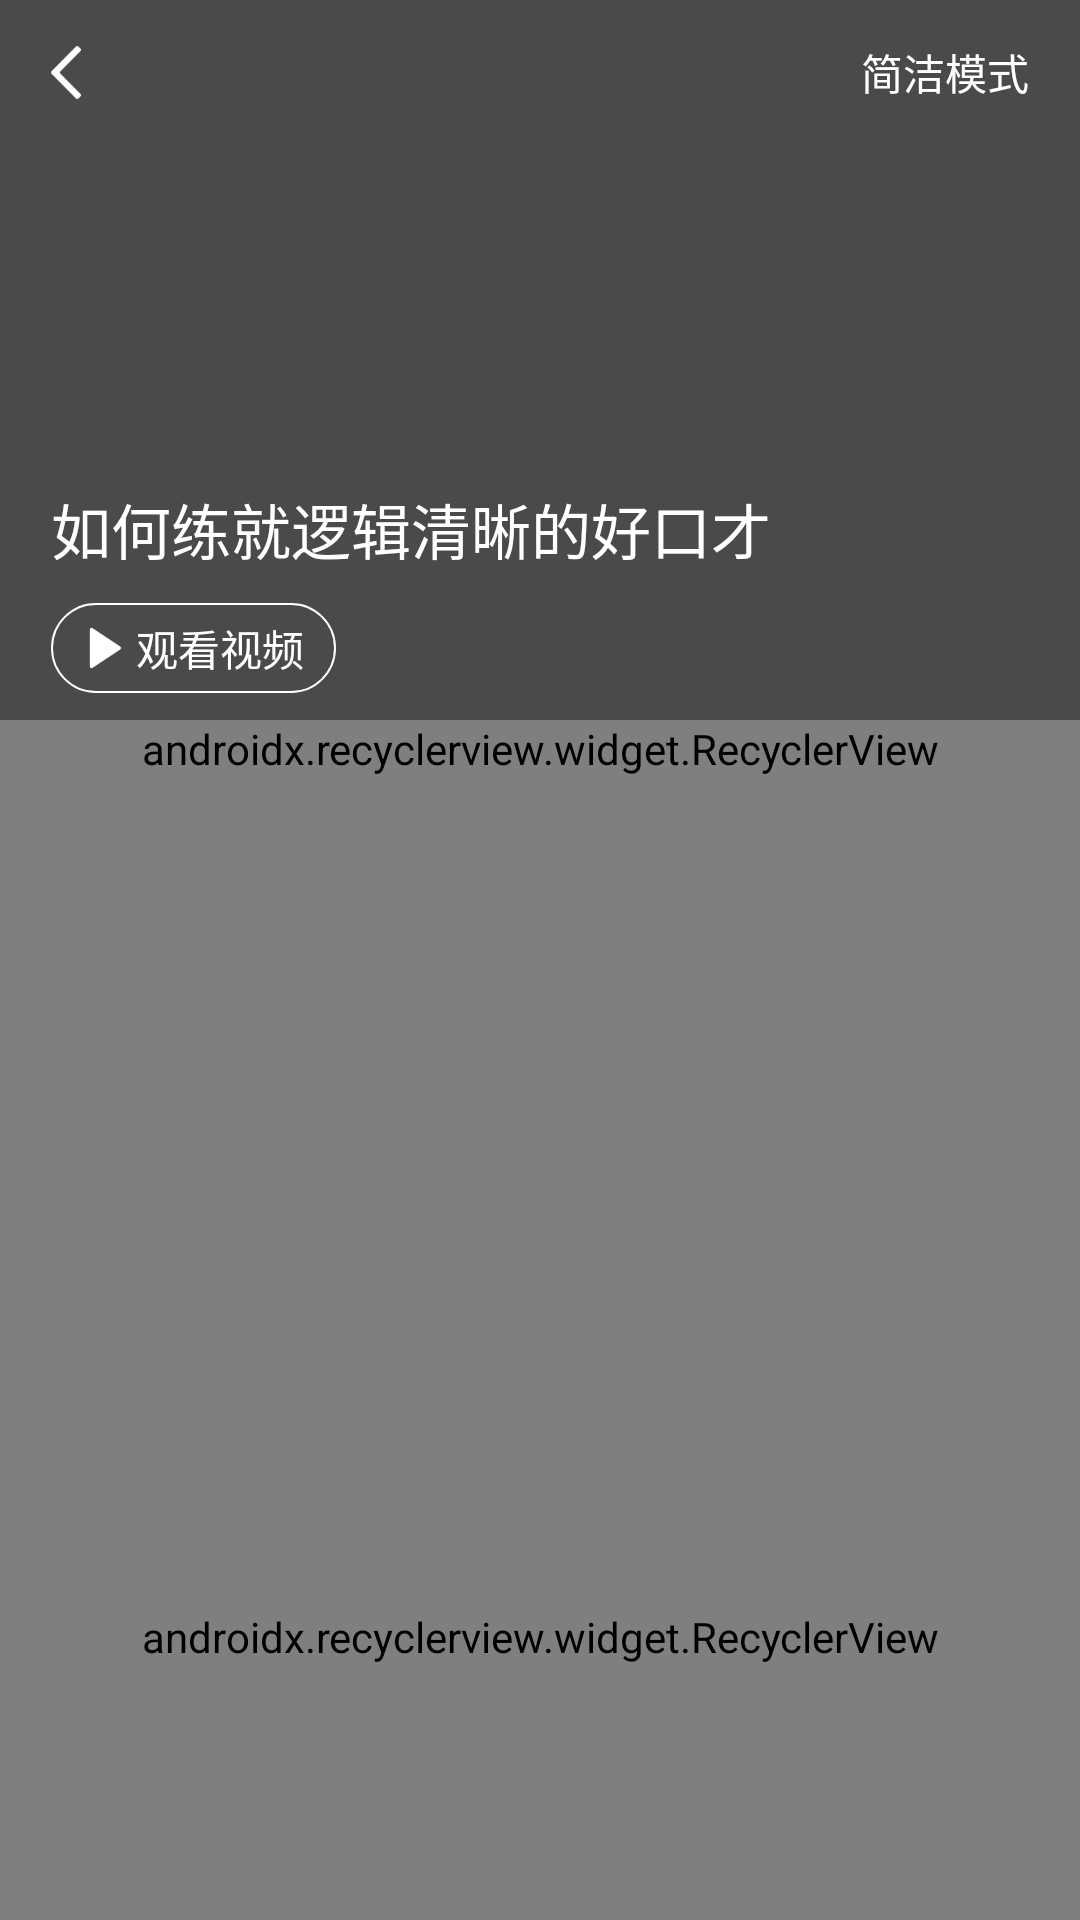

Where to tap for icons on this 1080 x 1920 app screen, as point (x, y):
back detail: point (66, 72)
play: point (105, 648)
